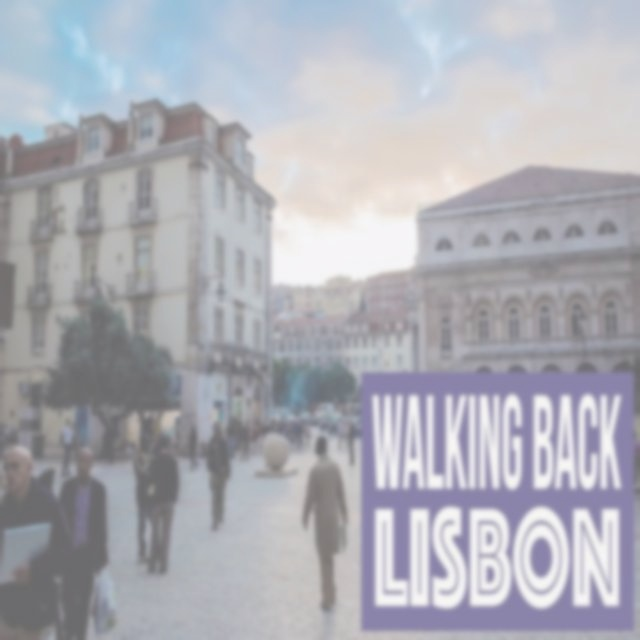pessoa: (0, 444, 76, 639), (57, 446, 111, 638), (300, 432, 349, 612), (140, 432, 180, 574), (132, 432, 160, 564), (204, 418, 232, 532), (260, 414, 305, 454), (143, 422, 181, 454), (58, 416, 74, 478), (34, 462, 57, 497), (186, 424, 200, 472), (239, 416, 251, 462), (68, 422, 82, 459), (226, 414, 237, 460), (632, 428, 639, 500), (346, 416, 356, 464), (0, 458, 11, 501), (250, 420, 260, 457), (303, 420, 314, 450), (336, 414, 344, 450), (242, 418, 250, 450), (120, 438, 136, 454), (342, 417, 349, 452), (74, 438, 84, 450)
